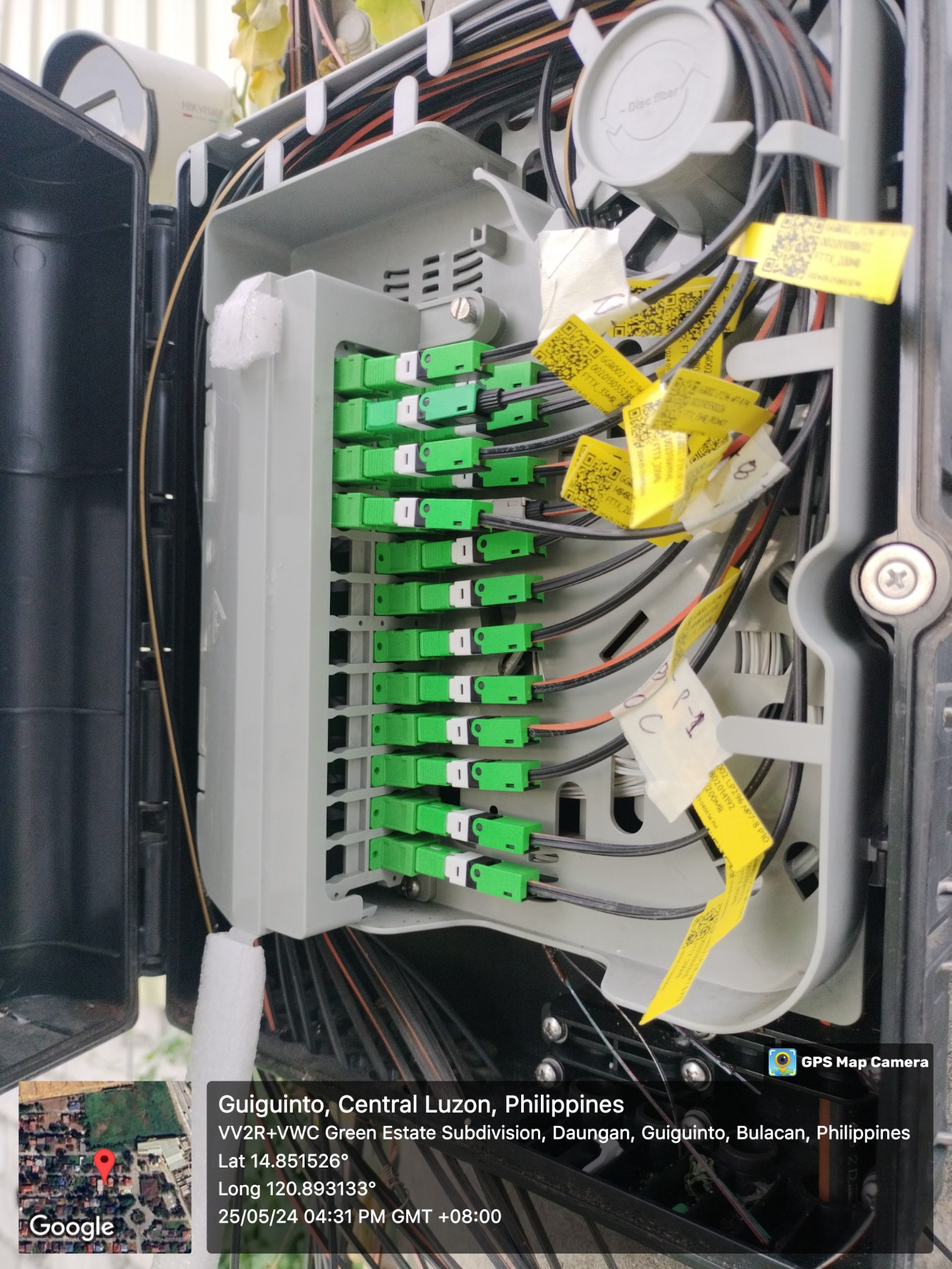no port: (326, 840, 366, 885), (326, 799, 366, 839), (329, 537, 372, 574), (327, 758, 368, 796), (327, 716, 369, 753), (326, 673, 369, 709), (330, 581, 372, 616), (329, 630, 370, 665)
occupied: (416, 842, 547, 909), (367, 376, 511, 430), (414, 799, 545, 857), (364, 338, 498, 393), (423, 394, 552, 443), (364, 438, 494, 481), (423, 361, 552, 404), (362, 494, 494, 534), (420, 621, 546, 660), (417, 576, 543, 614), (420, 533, 546, 571), (419, 497, 553, 532), (418, 756, 542, 793), (417, 714, 542, 749), (421, 456, 547, 489), (419, 673, 545, 704)
